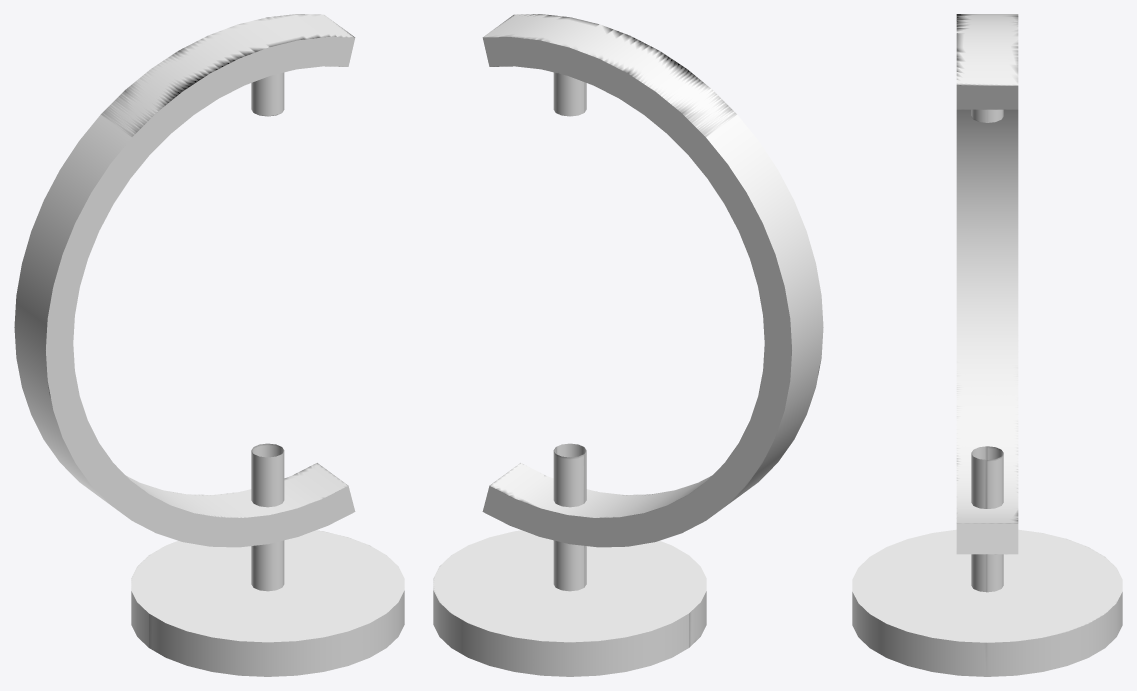
Rendered from Frame.fbx.
3 renders of one model, left to right at view 1: azimuth 30°, elevation 25°; view 2: azimuth 150°, elevation 25°; view 3: azimuth 270°, elevation 25°, orthographic.
Parts seen in each view (by area): view 1: polySurface1; view 2: polySurface1; view 3: polySurface1.
Boxes of the visible parts, box(x1,y1,x2,y2) form: polySurface1: box(14, 14, 404, 676); polySurface1: box(433, 14, 823, 676); polySurface1: box(852, 14, 1122, 676).
Bounding box in the file's own units: 2.06 × 3.24 × 1.37.
